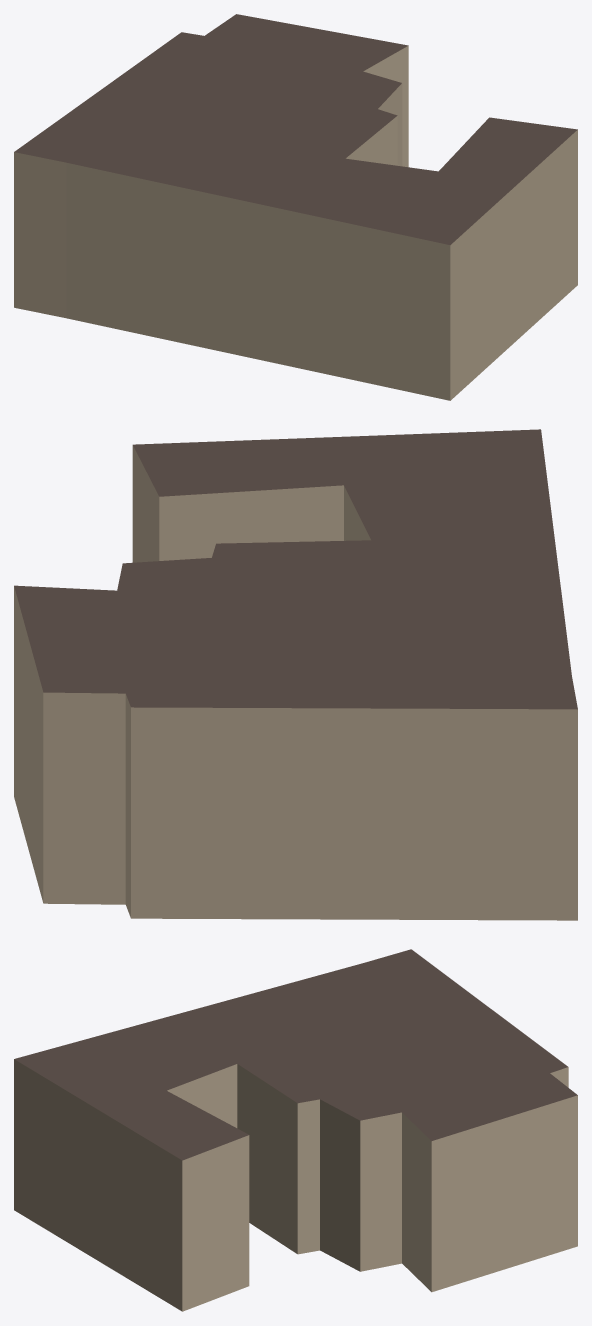
3 views of the same model, one above another, from view 1: azimuth 30°, elevation 25°; view 2: azimuth 150°, elevation 25°; view 3: azimuth 270°, elevation 25° (orthographic). The views are drawn at different scales.
Visible parts, largest first — view 1: HP-w1512468497; view 2: HP-w1512468497; view 3: HP-w1512468497.
Boxes of the visible parts, x1,y1,x2,y2 form: HP-w1512468497: (14,14,577,400); HP-w1512468497: (14,429,577,920); HP-w1512468497: (14,949,577,1311).
Size of the model in its own units: 26.99 by 9 by 30.43.
